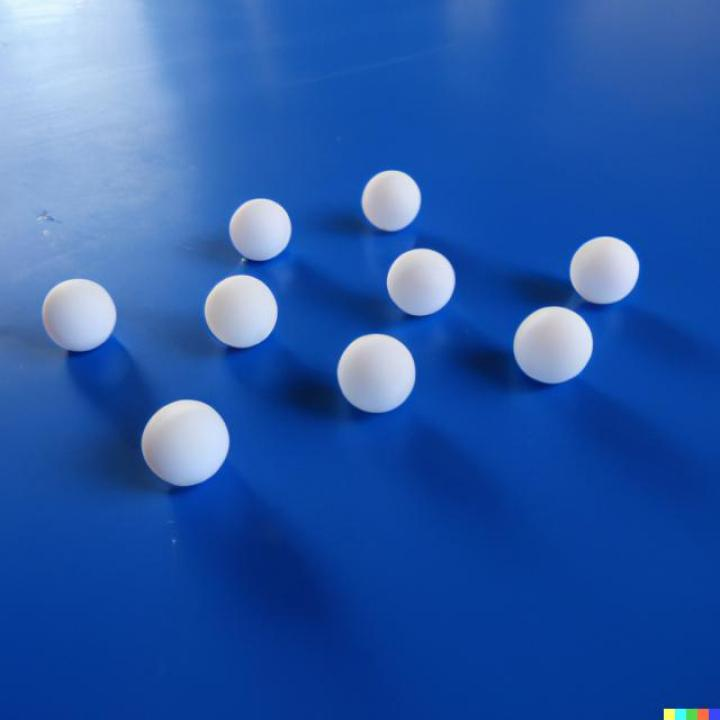white: (142, 400, 232, 488), (514, 306, 593, 386), (338, 334, 415, 413), (43, 278, 116, 352), (205, 274, 278, 347), (568, 234, 640, 306), (386, 247, 457, 315), (228, 196, 292, 263), (361, 170, 421, 232)
